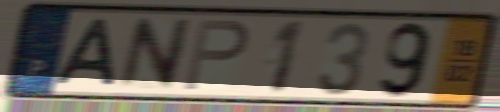1: (264, 18, 308, 96)
3: (316, 20, 371, 97)
9: (377, 20, 437, 100)
A: (51, 16, 120, 89)
N: (115, 16, 197, 92)
P: (180, 17, 251, 94)
